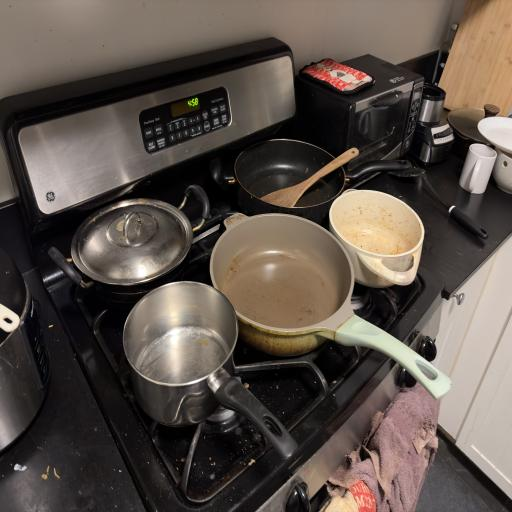Pan: (206, 213, 465, 426), (122, 277, 316, 475), (24, 186, 248, 312), (214, 125, 368, 240), (330, 170, 438, 313)
